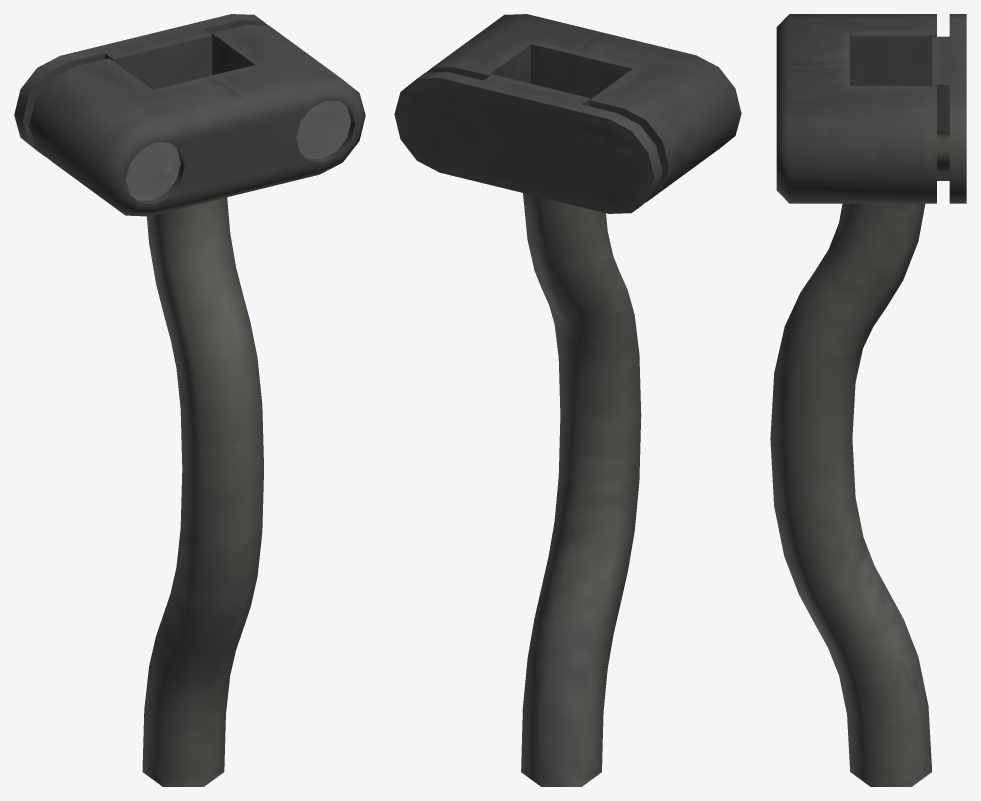
File: cable_bridge_3.gltf
The picture shows the model from 3 angles, left to right: view 1: azimuth 30°, elevation 25°; view 2: azimuth 150°, elevation 25°; view 3: azimuth 270°, elevation 25°; orthographic projection.
Visible parts, largest first — view 1: cable_bridge_3; view 2: cable_bridge_3; view 3: cable_bridge_3.
Part boxes in pixels (left/top/right/bottom): cable_bridge_3: left=14, top=14, right=365, bottom=786; cable_bridge_3: left=394, top=14, right=741, bottom=786; cable_bridge_3: left=770, top=14, right=966, bottom=786.
Size of the model in its own units: 0.0416 by 0.1073 by 0.0268.
1 material, 1 textured.
